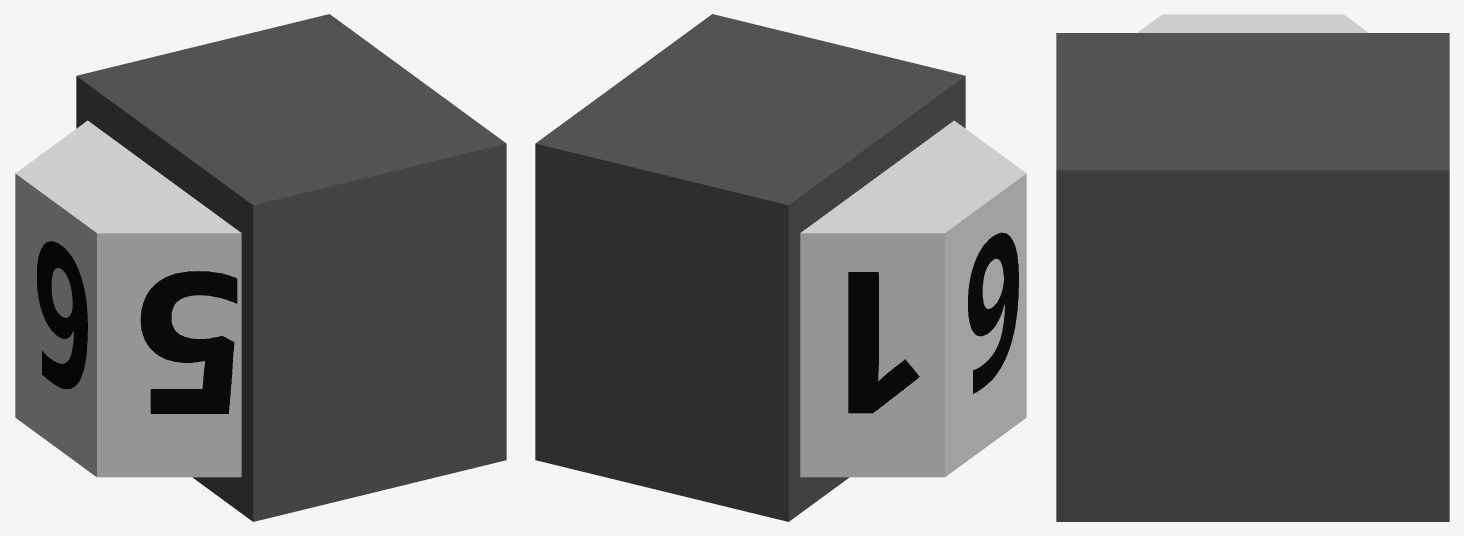
Rendered from Piao.fbx.
3 views of the same model, side by side, from view 1: azimuth 30°, elevation 25°; view 2: azimuth 150°, elevation 25°; view 3: azimuth 270°, elevation 25° (orthographic). The views are drawn at different scales.
Parts seen in each view (by area): view 1: Piao, Numeros; view 2: Piao, Numeros; view 3: Piao, Numeros.
Part boxes in pixels (x1,y1,x2,y2): Piao: (76,14,506,521); Numeros: (15,120,241,477); Piao: (535,14,965,521); Numeros: (800,120,1026,477); Piao: (1056,33,1449,521); Numeros: (1137,14,1368,32).
Size of the model in its own units: 203 by 170 by 172.
Materials: 3 (1 with a texture image).
